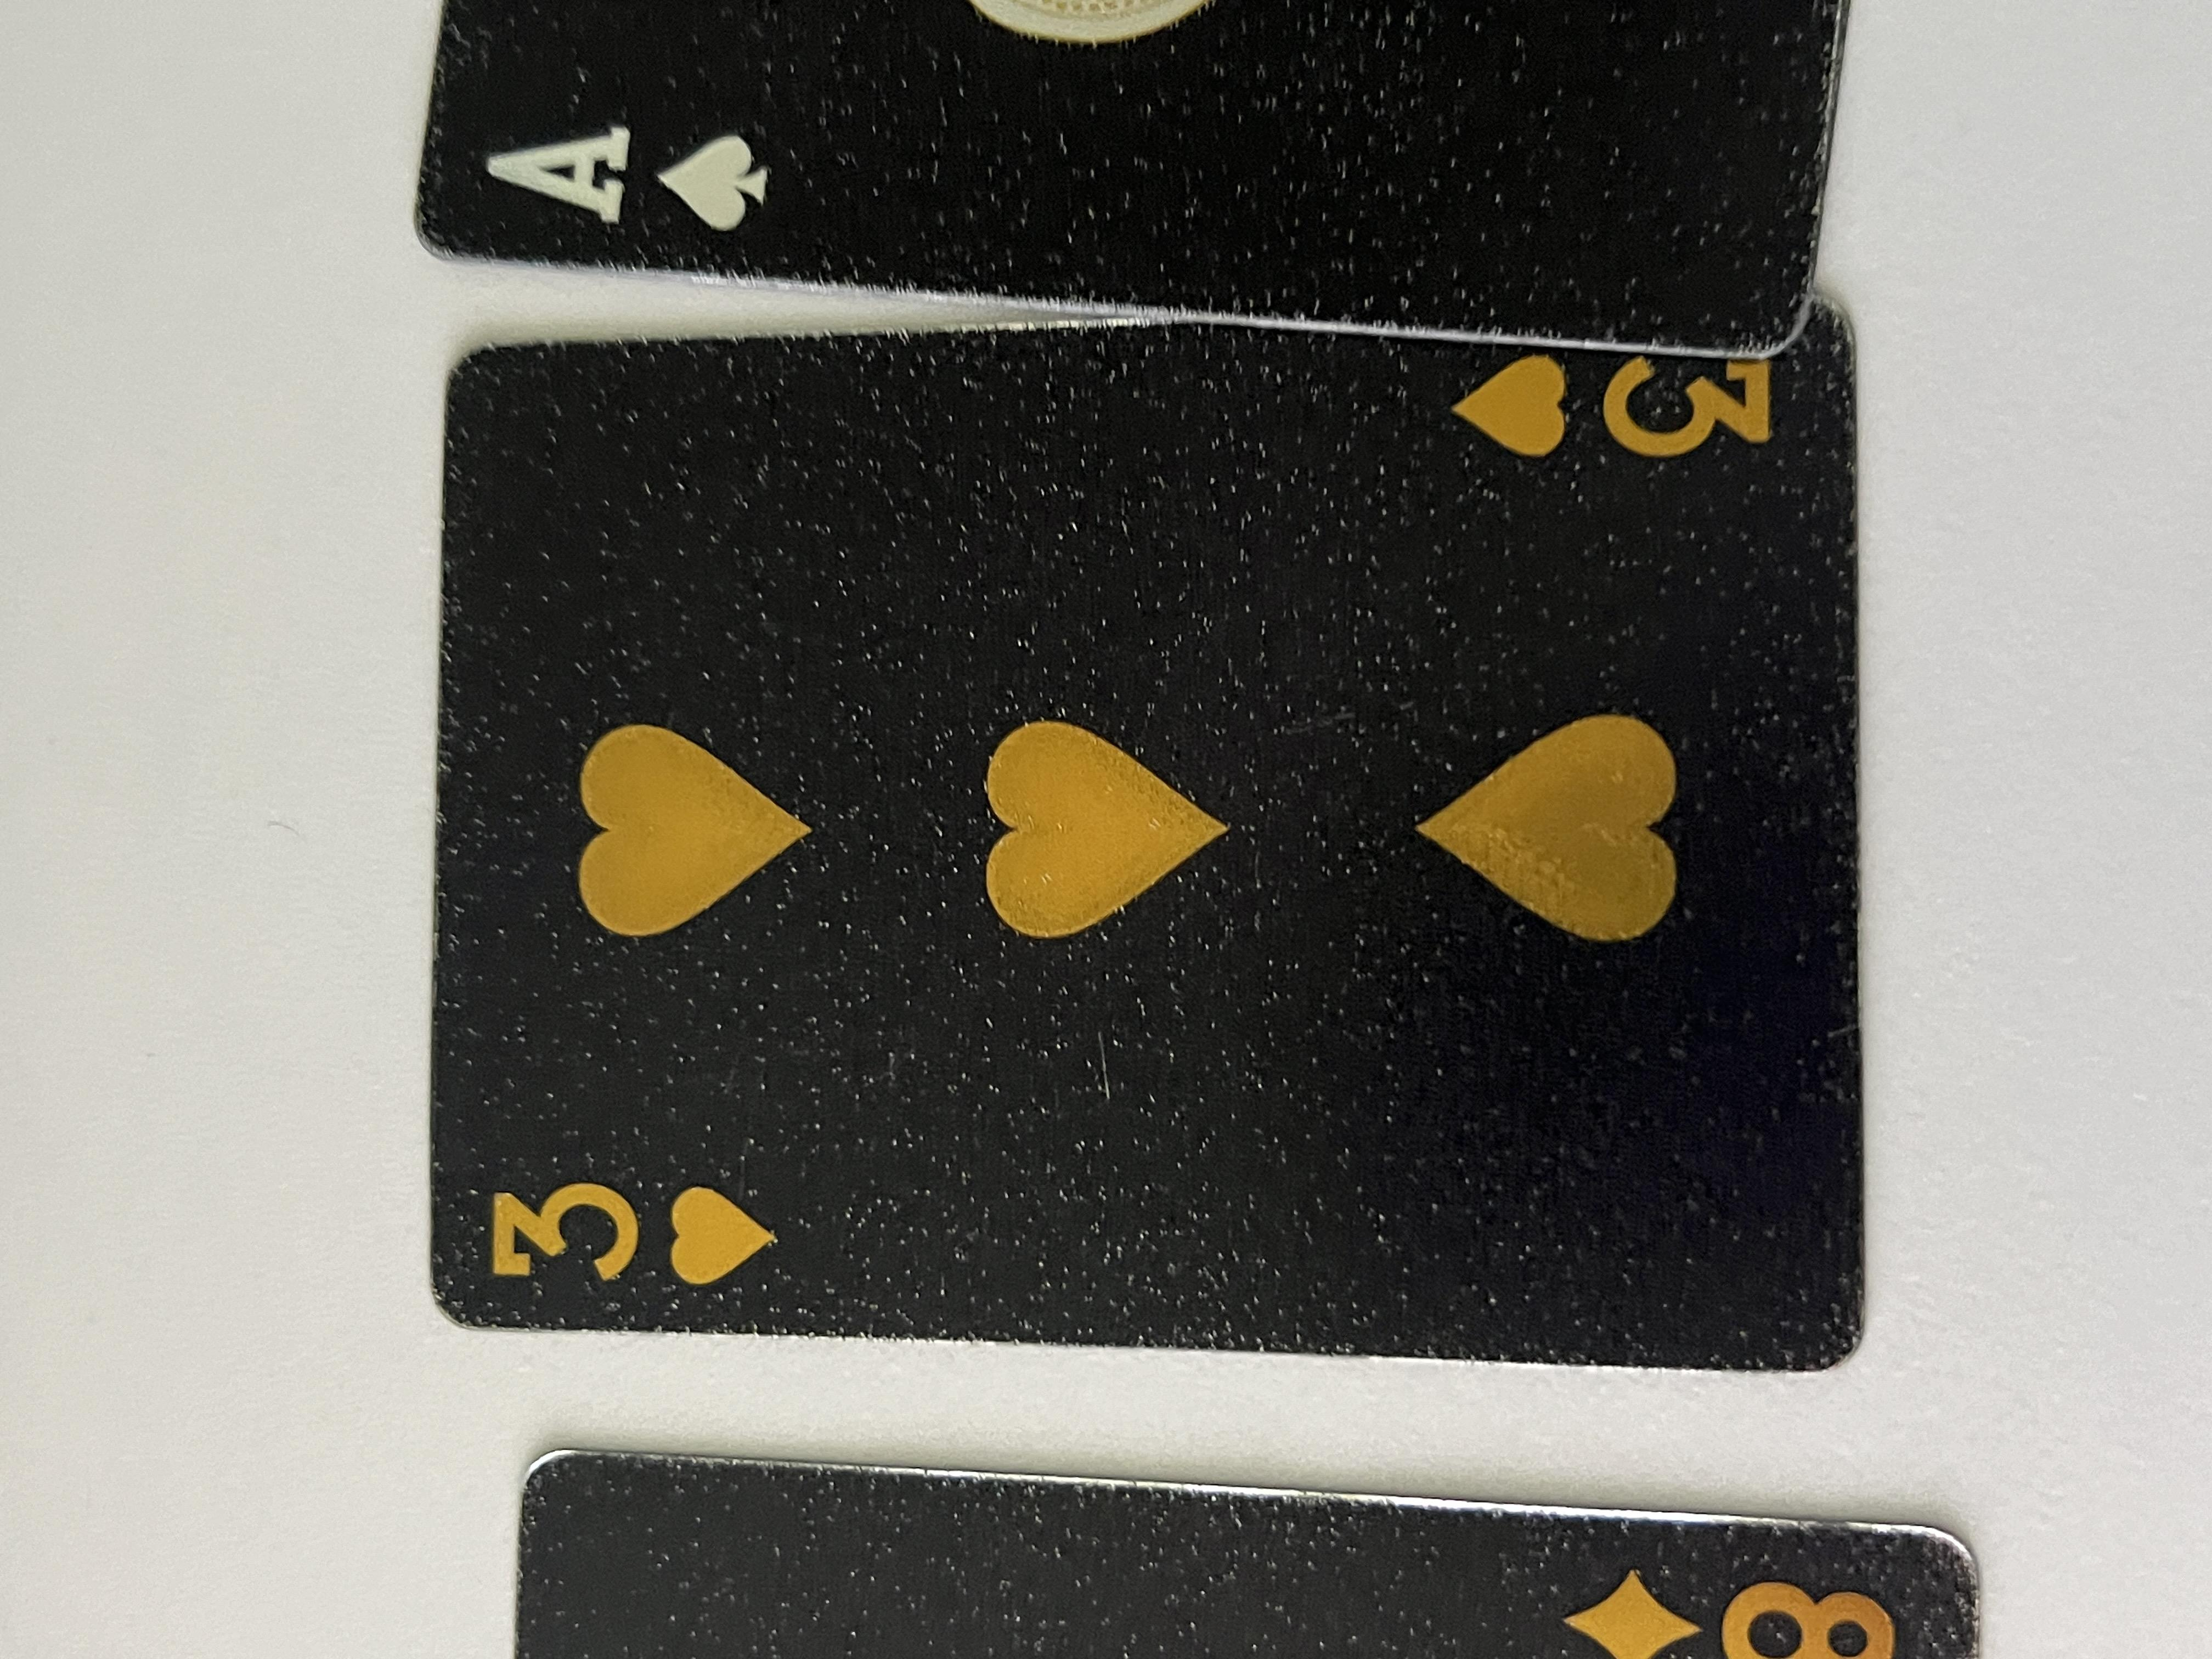3H: (486, 357, 665, 594), (1599, 1086, 1745, 1335)
8D: (0, 1173, 139, 1439)
AS: (1879, 361, 2052, 591)
